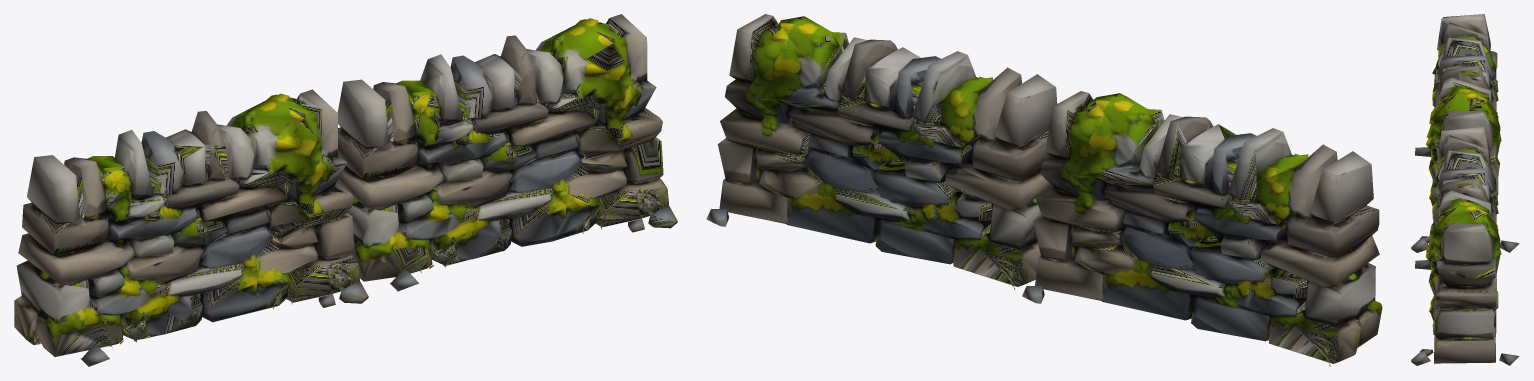
Rendered from stonewall-low.glb.
3 views of the same model, side by side, from view 1: azimuth 30°, elevation 25°; view 2: azimuth 150°, elevation 25°; view 3: azimuth 270°, elevation 25° (orthographic). The views are drawn at different scales.
Parts seen in each view (by area): view 1: node_0, node_0-tile1; view 2: node_0, node_0-tile1; view 3: node_0-tile1, node_0.
Part boxes in pixels (<box>): node_0: <box>14,89,368,366</box>; node_0-tile1: <box>336,14,677,291</box>; node_0: <box>1022,91,1382,366</box>; node_0-tile1: <box>706,14,1057,289</box>; node_0-tile1: <box>1411,127,1519,365</box>; node_0: <box>1411,14,1519,252</box>.
Bounding box in the file's own units: 3.39 × 0.9948 × 0.6903.
Materials: 1 (1 with a texture image).
